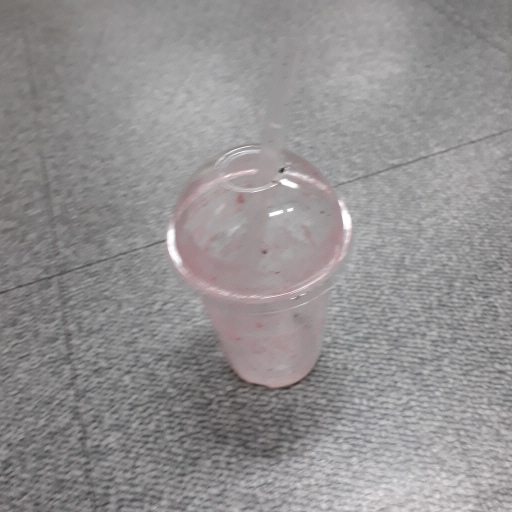Plastic_2: (163, 142, 355, 389)
